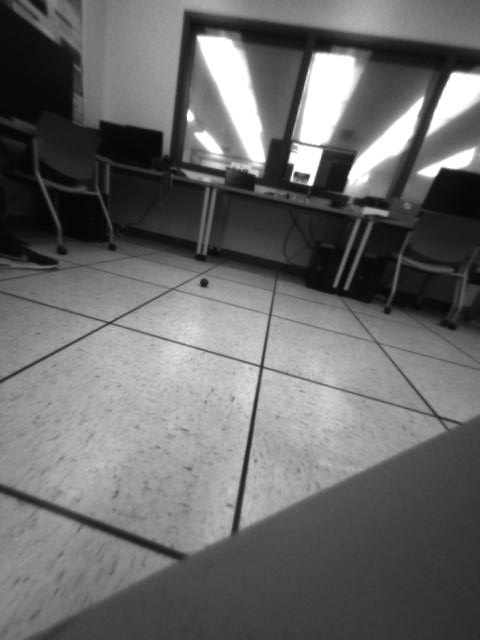dogtoy: (196, 271, 214, 293)
